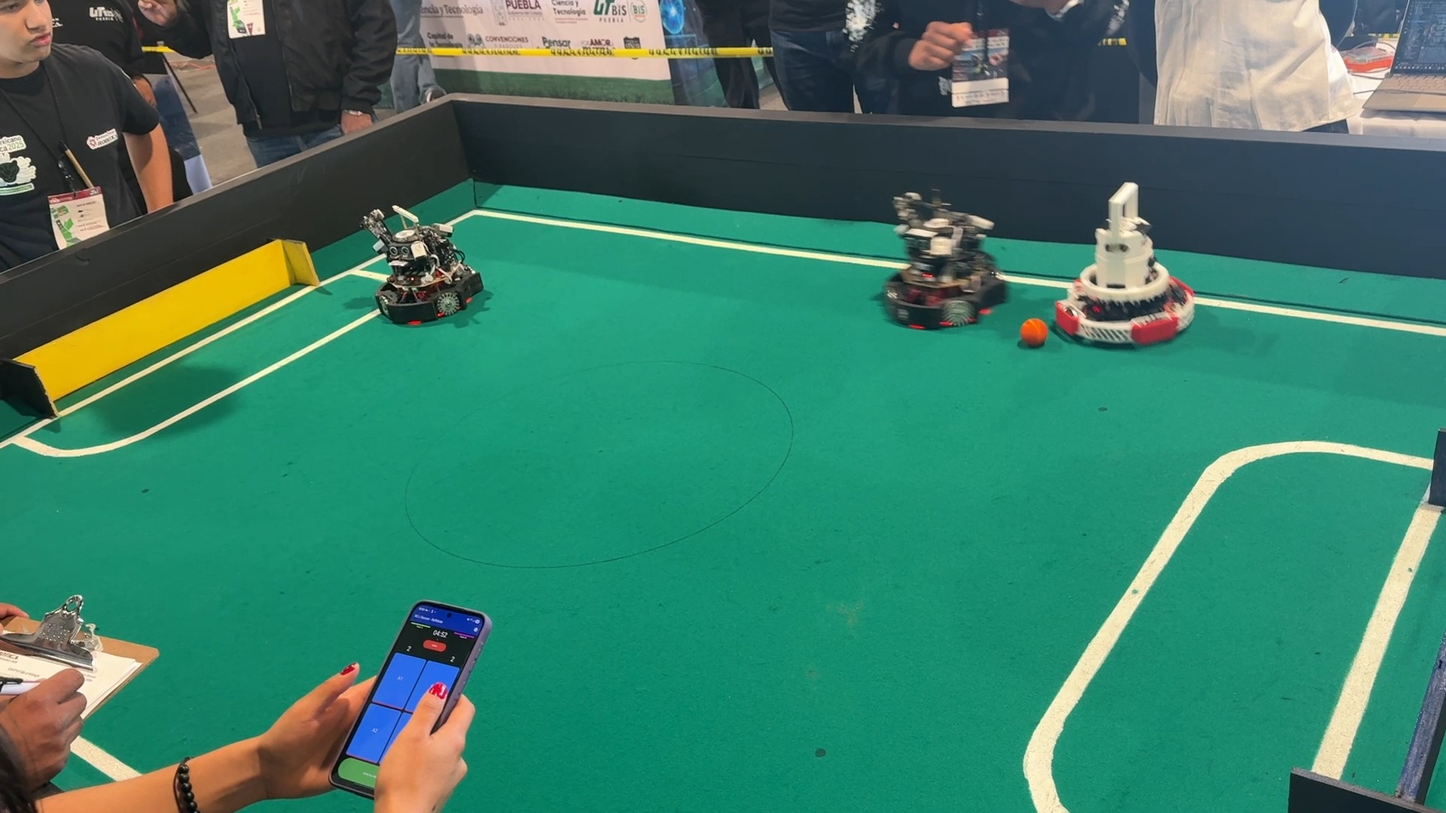Robot: (1049, 178, 1203, 363), (872, 183, 1015, 341), (353, 195, 510, 337)
pelota: (1019, 320, 1048, 345)
